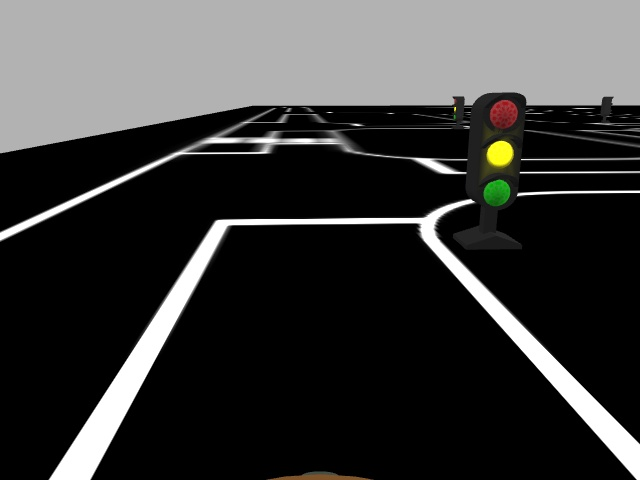yellow_light: (470, 91, 526, 210)
